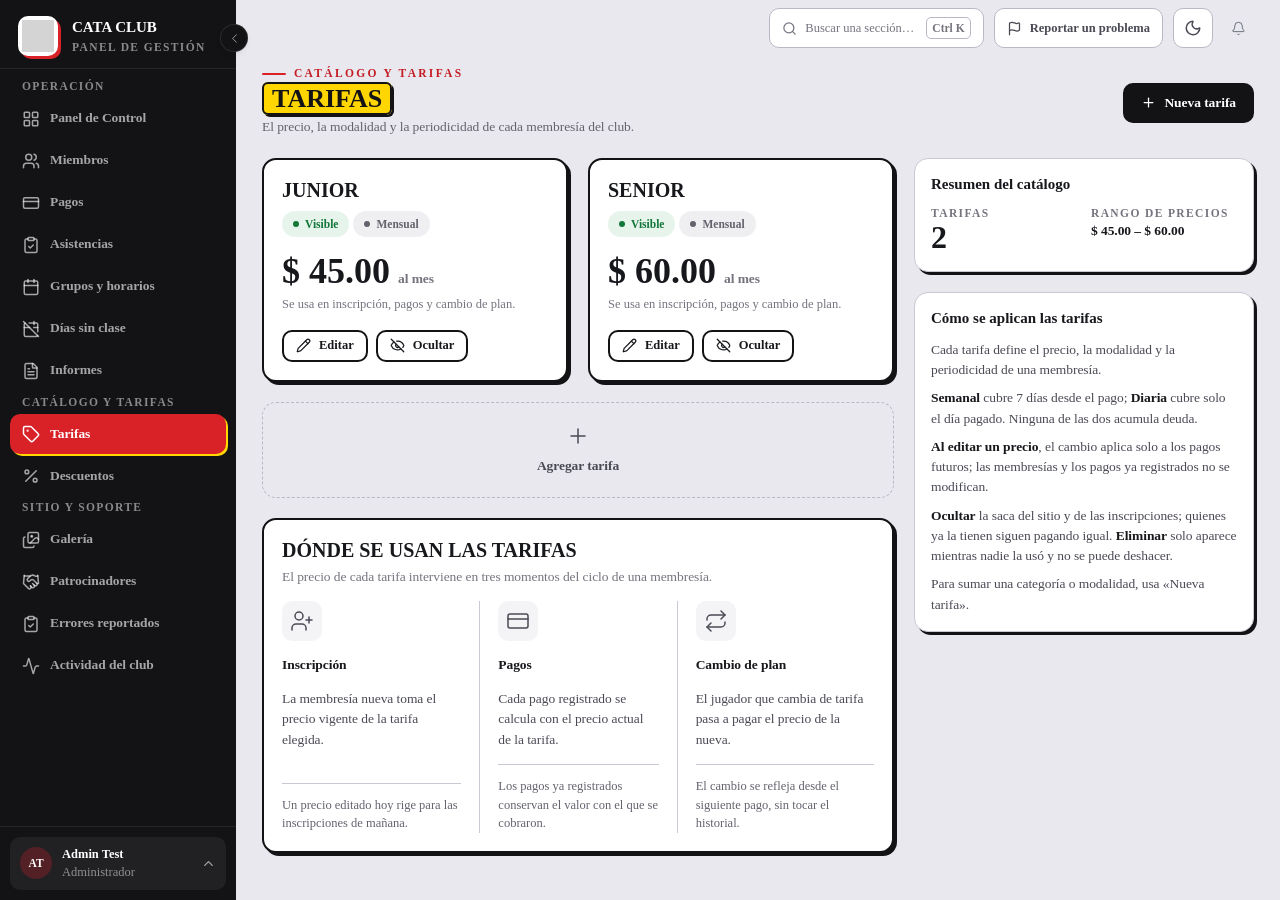
TarifasPage — editar precio › states in the confirmation that only future payments are affected
The image size is (1280, 900).
Click the button "Editar" below "Junior" at (325, 346), box [282,330,368,362]
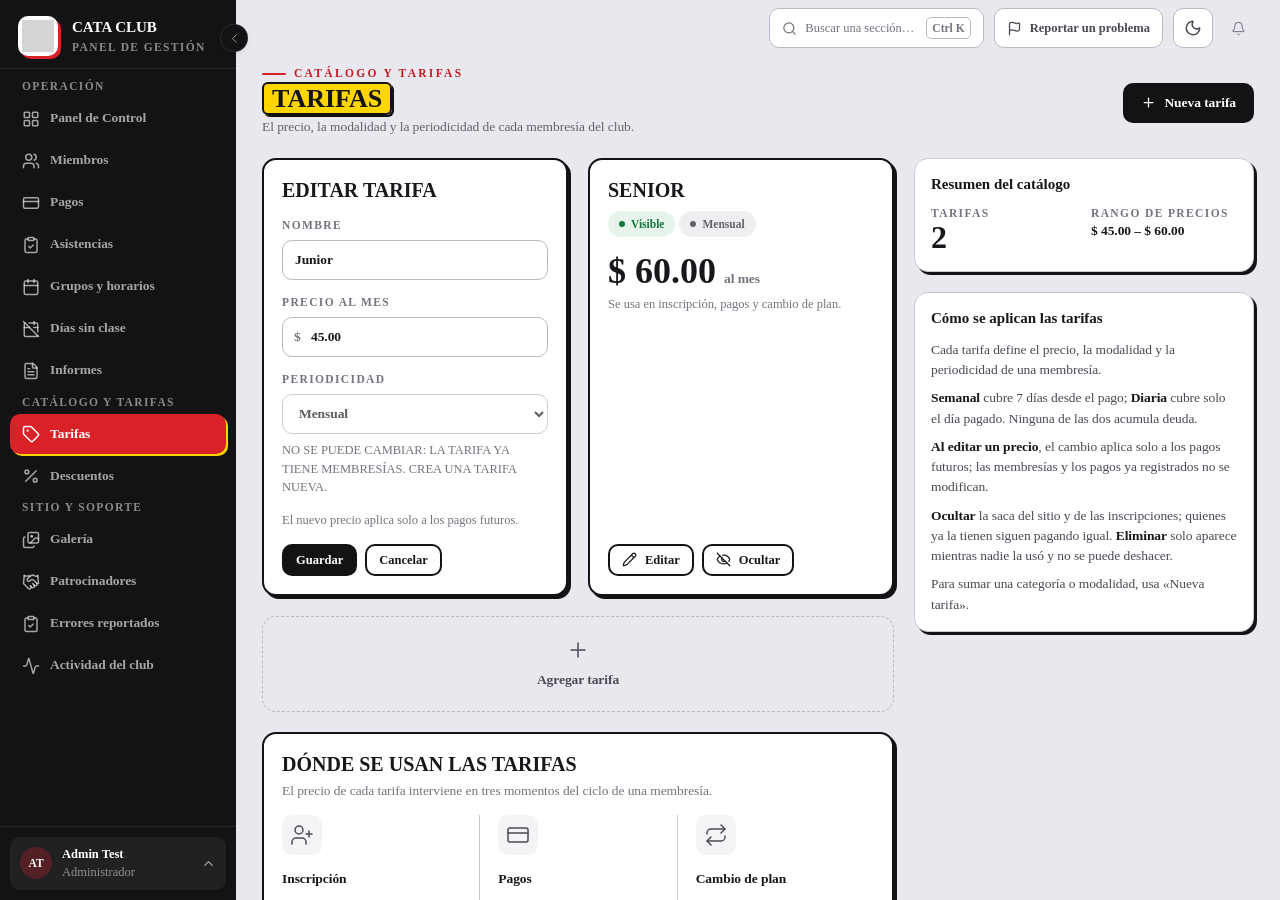
Replace the text in the field named "precio de junior" with "50.00" at (415, 337), box [282,317,548,357]
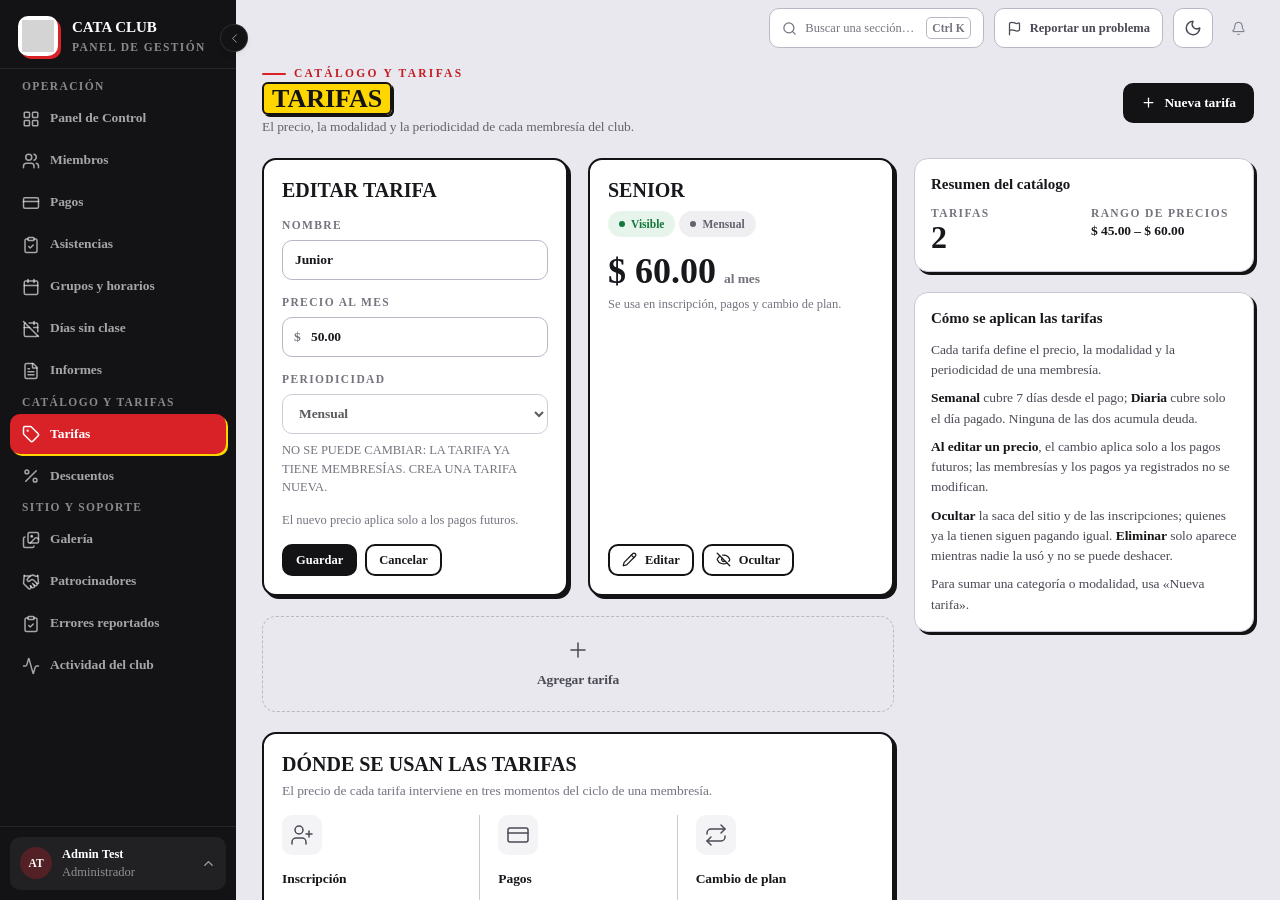
Click the button "Guardar" at (320, 560), box [282,544,357,576]
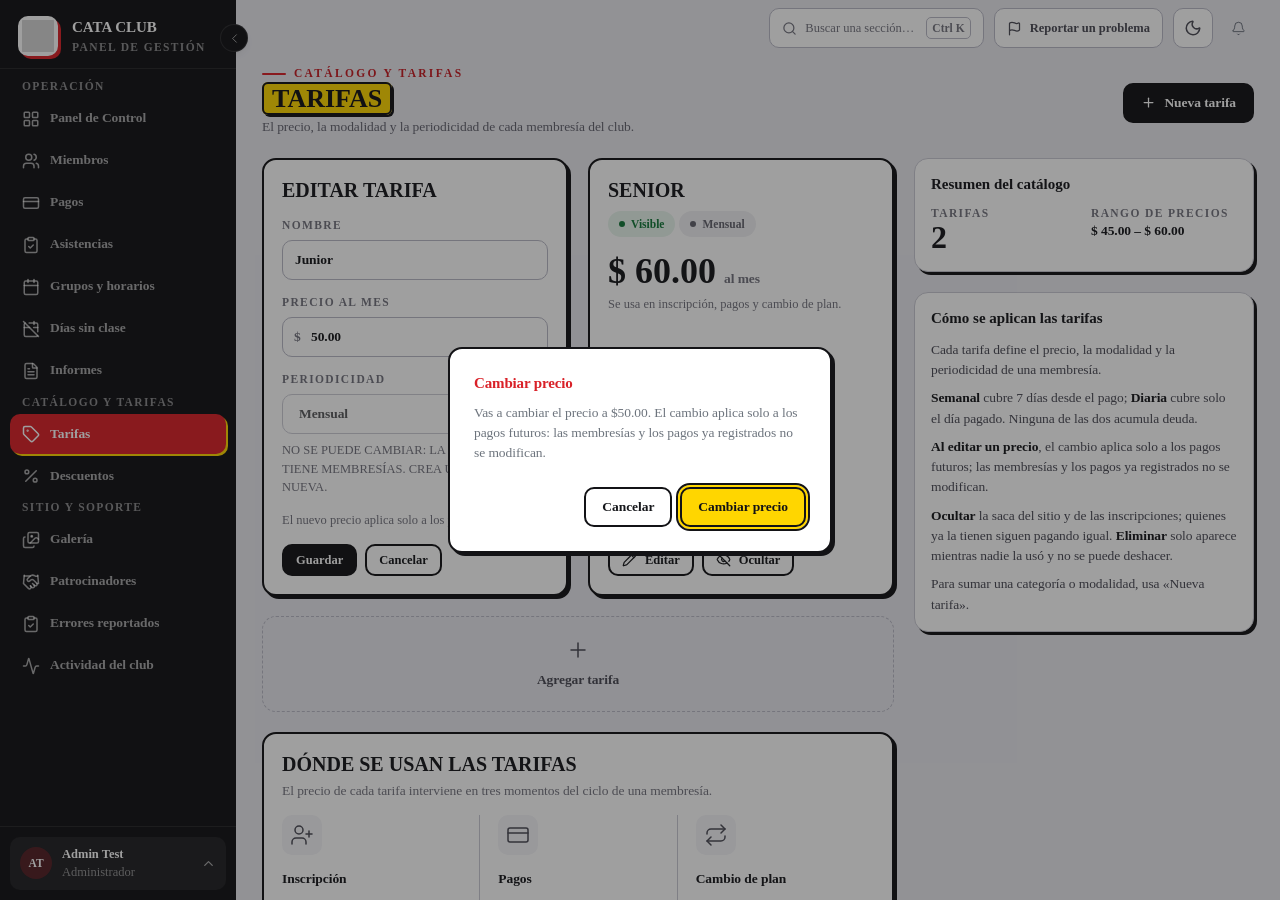
Now the text "no se modifican" is shown, box [474,404,798,460]
